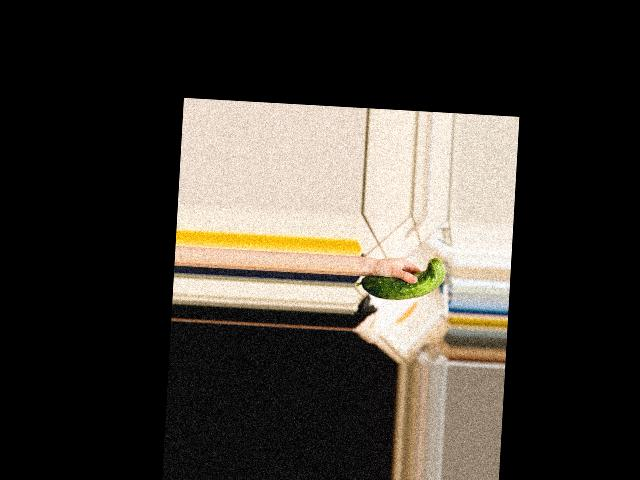cucumber: (354, 253, 446, 303)
